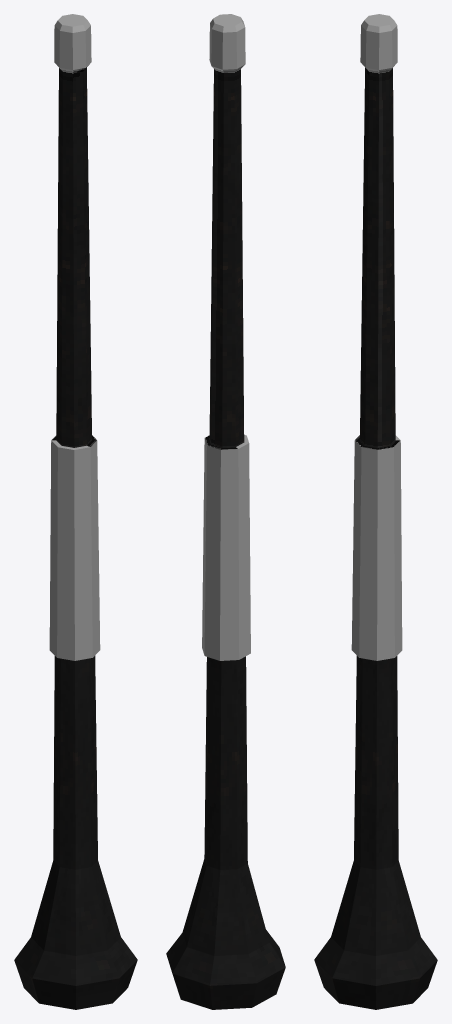
Rendered from SM_Stick.glb.
The picture shows the model from 3 angles, left to right: view 1: azimuth 90°, elevation 25°; view 2: azimuth 210°, elevation 25°; view 3: azimuth 270°, elevation 25°; orthographic projection.
Parts seen in each view (by area): view 1: SM_Stick; view 2: SM_Stick; view 3: SM_Stick.
Boxes of the visible parts, x1,y1,x2,y2 form: SM_Stick: [14, 14, 137, 1009]; SM_Stick: [166, 14, 285, 1009]; SM_Stick: [314, 14, 437, 1009].
Bounding box in the file's own units: 0.0817 × 0.7095 × 0.0817.
Materials: 1 (1 with a texture image).
